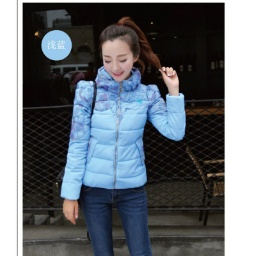face: (94, 18, 149, 83)
